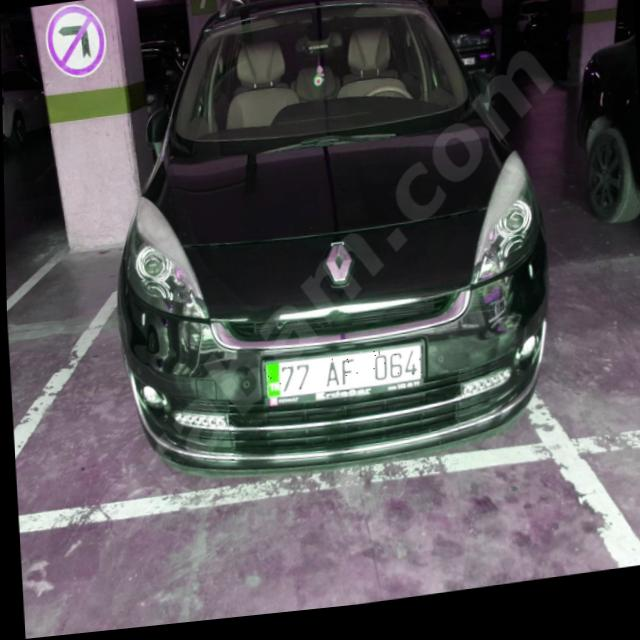license_plate: (261, 352, 421, 404)
